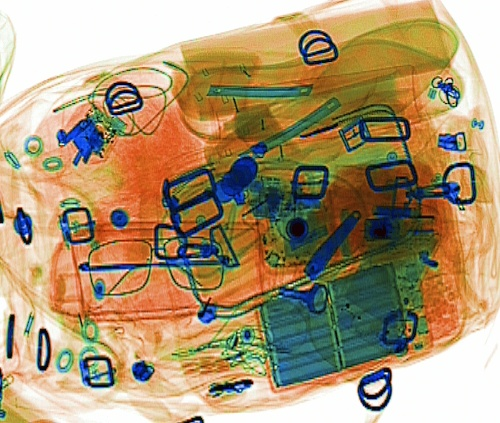powerbank: (250, 240, 430, 387)
